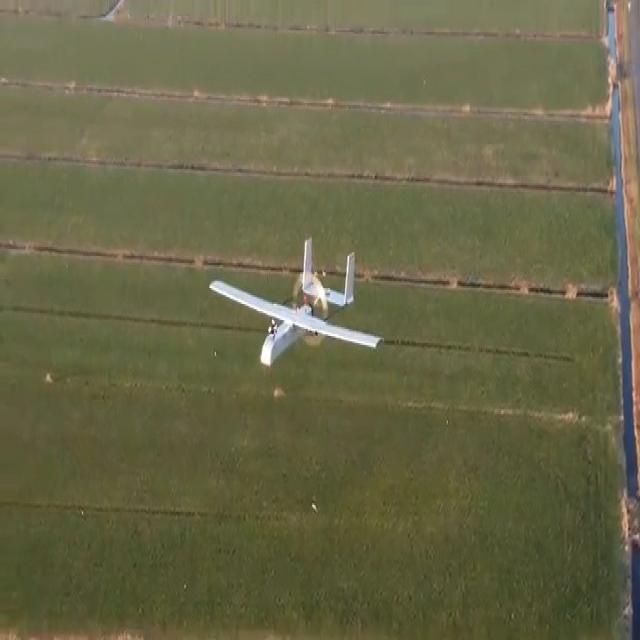iha: (210, 234, 391, 396)
